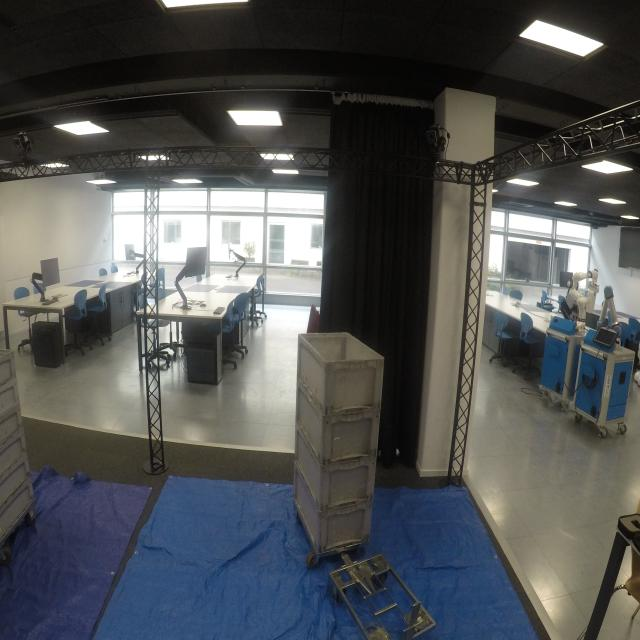Box4G: (295, 421, 380, 512), (296, 378, 383, 465), (296, 330, 385, 414), (293, 462, 374, 552)
